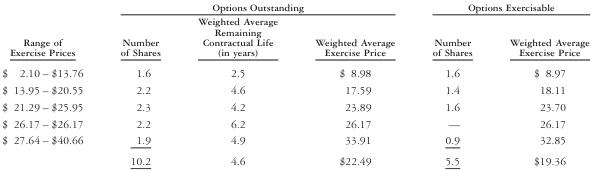table: (1, 1, 588, 166)
table column: (295, 1, 413, 166), (178, 1, 295, 166), (1, 1, 101, 166), (490, 1, 588, 166), (101, 1, 178, 166), (413, 1, 490, 166)
table column header: (1, 1, 588, 62)
table row: (1, 14, 588, 62), (1, 62, 588, 81), (1, 131, 588, 150), (1, 97, 588, 114), (1, 114, 588, 131), (1, 81, 588, 97), (1, 150, 588, 166), (1, 1, 588, 14)
table spanning cell: (1, 1, 101, 62), (101, 1, 413, 14), (413, 1, 588, 14)
